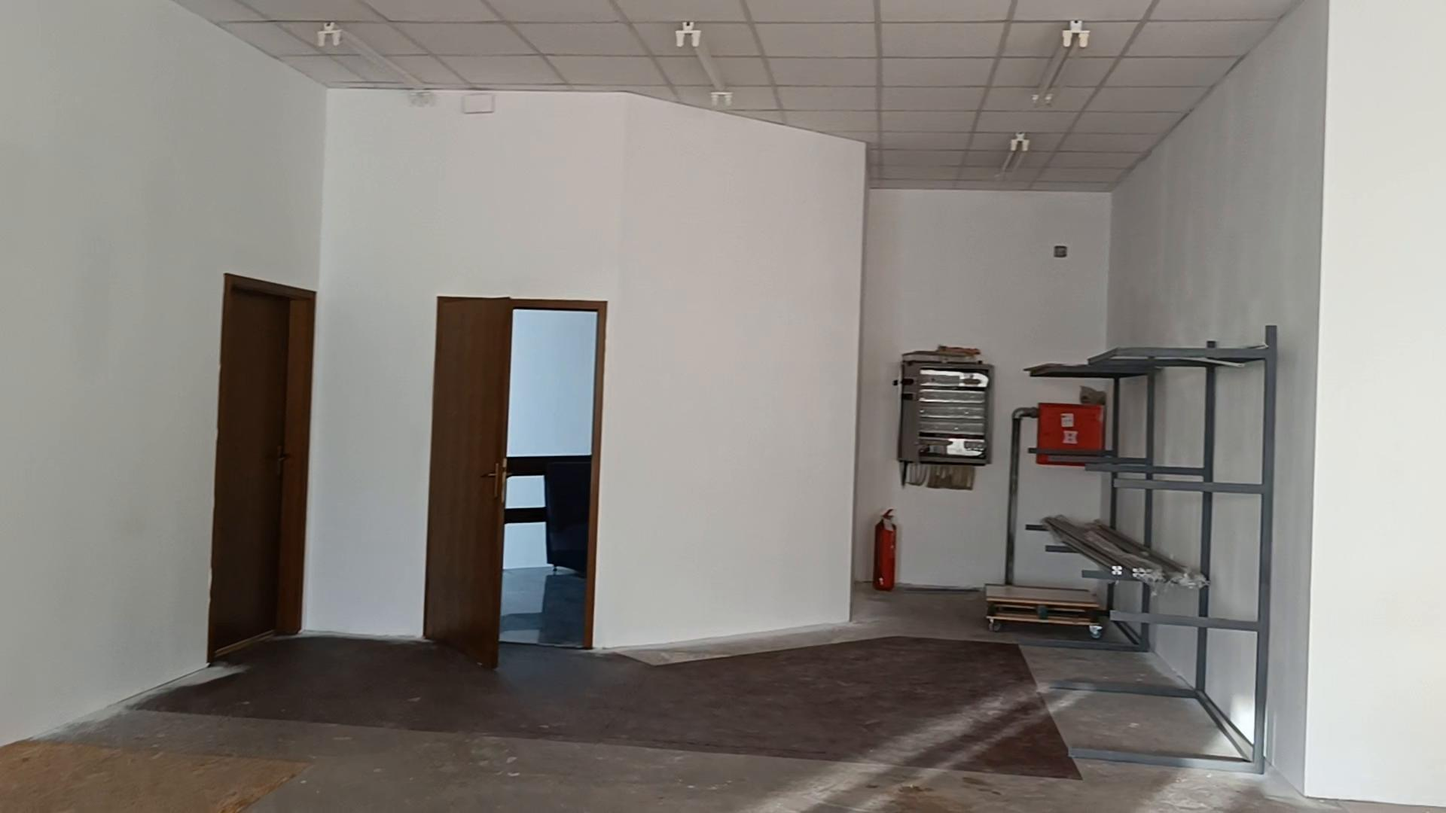ceiling: (175, 0, 1299, 190)
floor: (0, 585, 1441, 812)
wall: (0, 0, 1441, 803)
